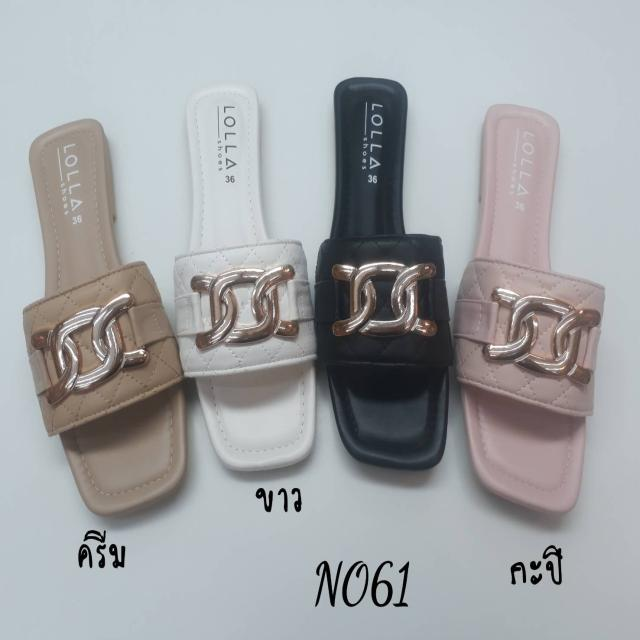black: (321, 77, 448, 474)
cream: (32, 123, 187, 509)
kapi: (462, 109, 588, 516)
white: (184, 83, 318, 473)
